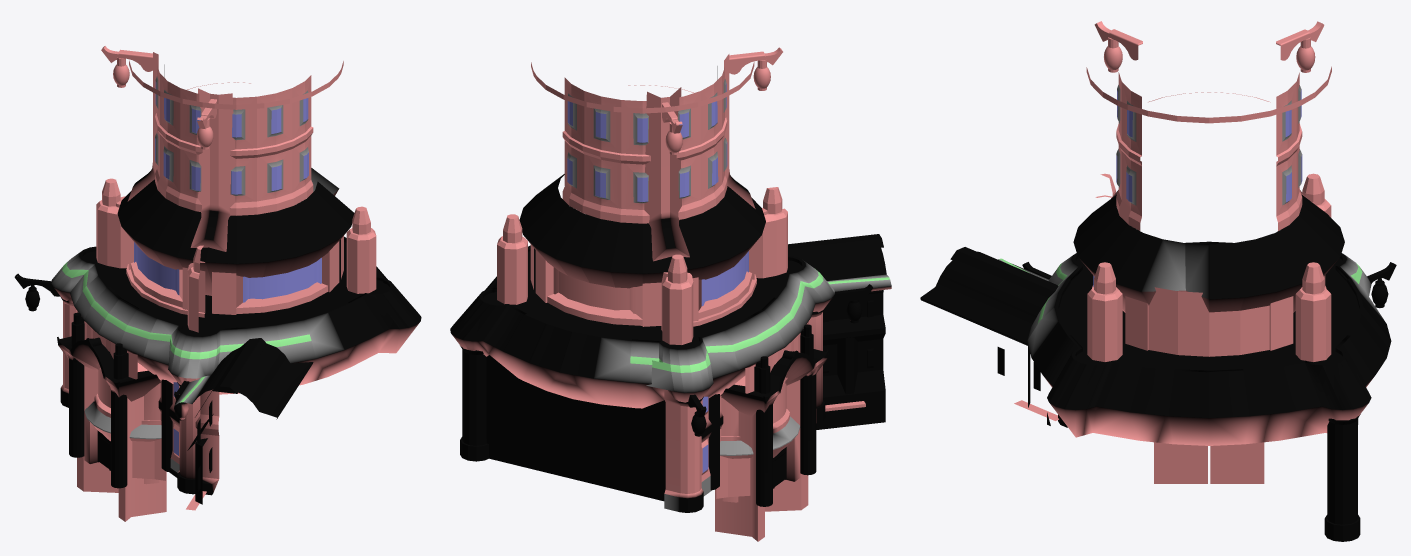
File: COL_SM_ENV_KNVLLG03_AreaF_BuildingB.gltf
The picture shows the model from 3 angles, left to right: view 1: azimuth 30°, elevation 25°; view 2: azimuth 150°, elevation 25°; view 3: azimuth 270°, elevation 25°; orthographic projection. The views are drawn at different scales.
Parts seen in each view (by area): view 1: COL_SM_ENV_KNVLLG03_AreaF_BuildingB; view 2: COL_SM_ENV_KNVLLG03_AreaF_BuildingB; view 3: COL_SM_ENV_KNVLLG03_AreaF_BuildingB.
Boxes of the visible parts, left/top/right/bottom form: COL_SM_ENV_KNVLLG03_AreaF_BuildingB: left=14, top=46, right=421, bottom=521; COL_SM_ENV_KNVLLG03_AreaF_BuildingB: left=450, top=47, right=891, bottom=541; COL_SM_ENV_KNVLLG03_AreaF_BuildingB: left=920, top=21, right=1396, bottom=541.
Size of the model in its own units: 30.36 by 41.73 by 37.93.
